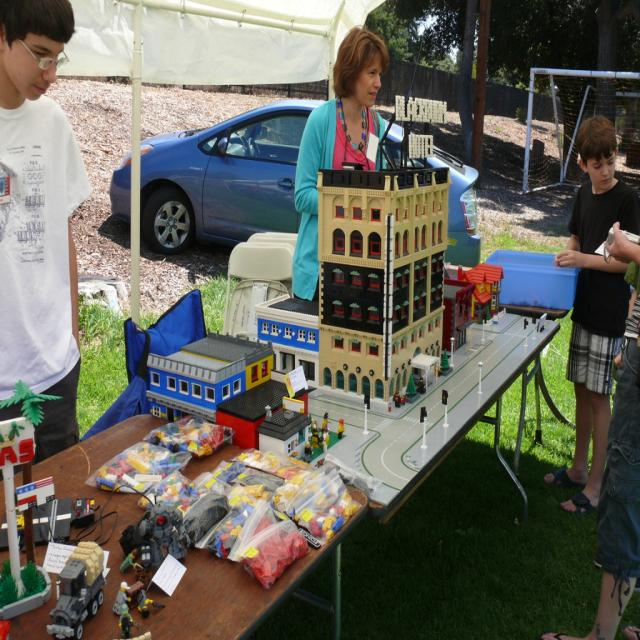Toy: (257, 95, 507, 412), (0, 380, 191, 640), (178, 448, 361, 587), (126, 316, 291, 416), (258, 367, 348, 464), (94, 443, 191, 495), (150, 418, 226, 459), (140, 472, 190, 506)
